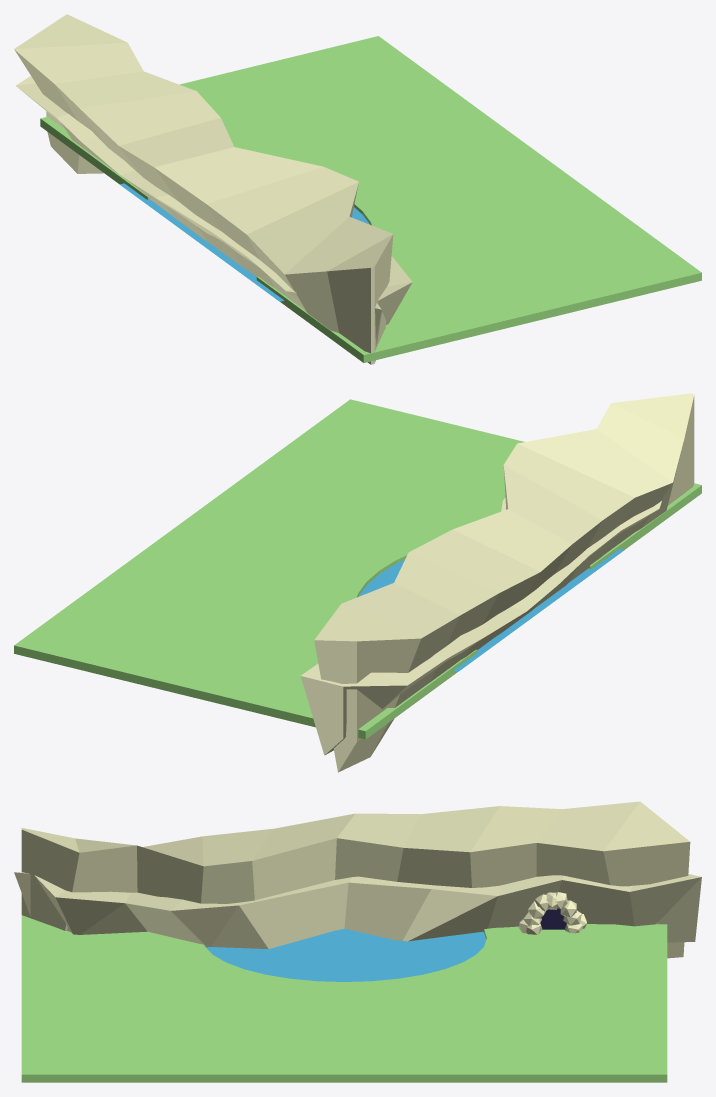
The model's file is Crete Valley 1.0 9.30.25.fbx.
The picture shows the model from 3 angles, top to bottom: view 1: azimuth 30°, elevation 25°; view 2: azimuth 150°, elevation 25°; view 3: azimuth 270°, elevation 25°; orthographic projection. The views are drawn at different scales.
Visible parts, largest first — view 1: Cube.002, Cube.001, Cube.005, Plane; view 2: Cube.002, Cube.001, Cube.005, Plane; view 3: Cube.002, Cube.001, Cube.005, Plane, Plane.002.
Part boxes in pixels (<box>): Cube.002: <box>40,36,701,362</box>; Cube.001: <box>14,14,393,364</box>; Cube.005: <box>15,76,412,345</box>; Plane: <box>119,183,369,301</box>; Cube.002: <box>14,399,701,739</box>; Cube.001: <box>314,393,694,772</box>; Cube.005: <box>300,498,661,755</box>; Plane: <box>358,549,624,671</box>; Cube.002: <box>21,915,667,1082</box>; Cube.001: <box>21,801,690,958</box>; Cube.005: <box>14,872,701,949</box>; Plane: <box>205,928,486,981</box>; Plane.002: <box>540,908,566,929</box>.
Size of the model in its own units: 13088 by 4347 by 20385.
